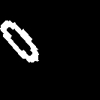chain: (0, 21, 38, 61)
